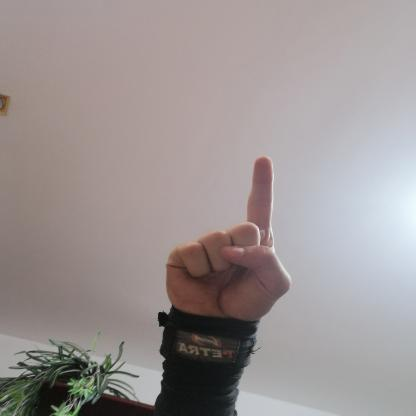BAA: (152, 149, 303, 327)
